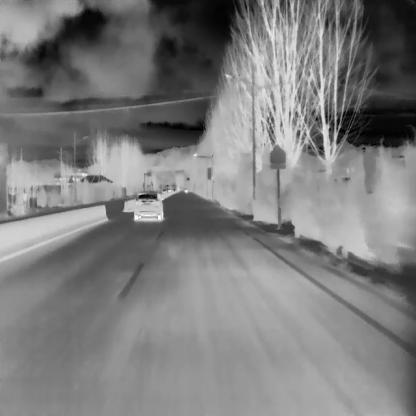car: (133, 192, 163, 219)
